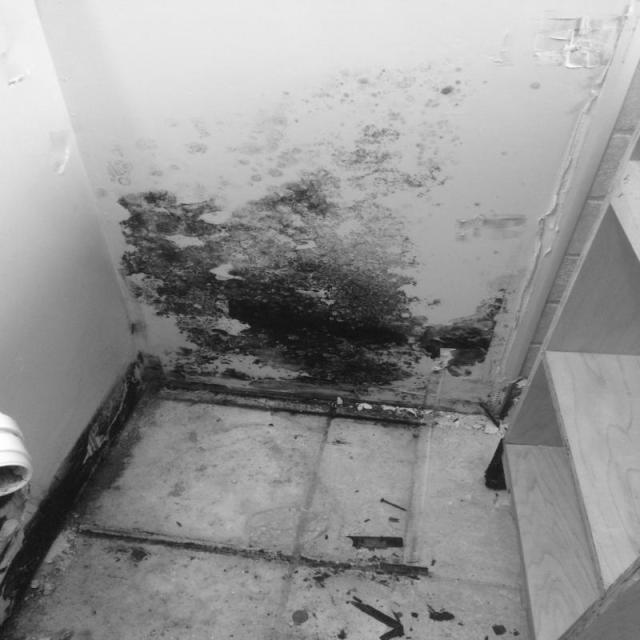stain marks: (101, 43, 544, 424)
